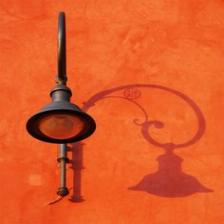orange: (0, 0, 224, 224), (38, 114, 85, 140)
